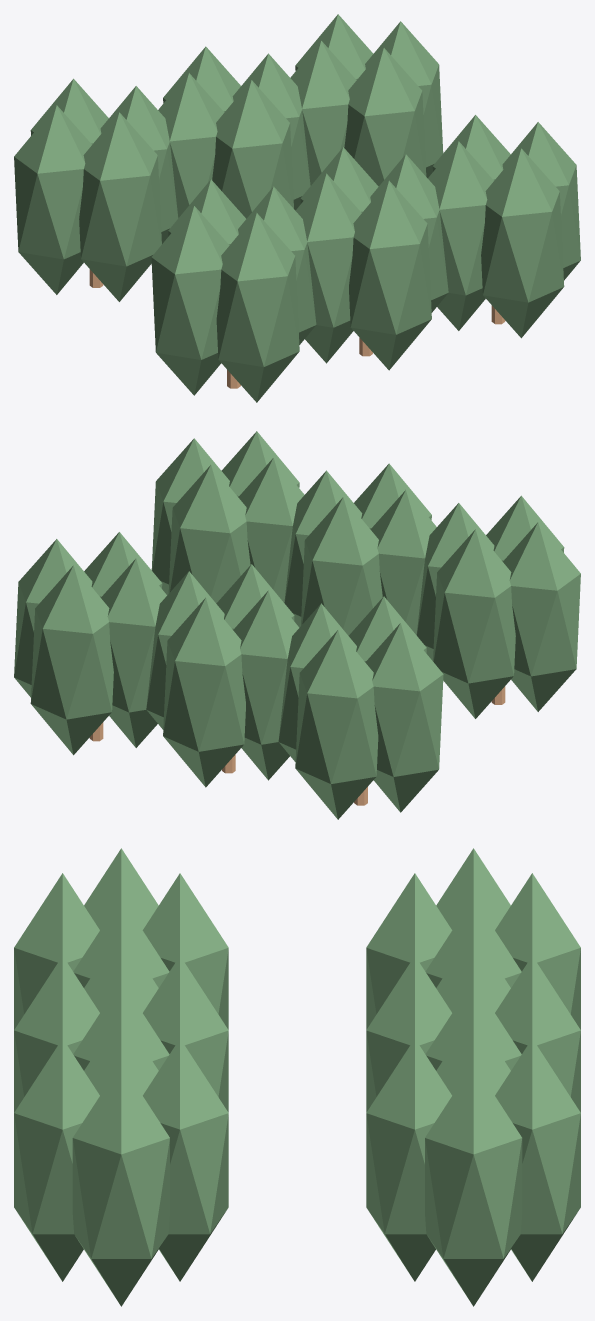
The picture shows the model from 3 angles, top to bottom: view 1: azimuth 30°, elevation 25°; view 2: azimuth 150°, elevation 25°; view 3: azimuth 270°, elevation 25°; orthographic projection. The views are drawn at different scales.
Parts seen in each view (by area): view 1: Leaf.003, Leaf.011, Leaf.019, Leaf.007, Leaf.006, Leaf.002, Leaf.015, Leaf.023, Leaf.018, Leaf.010, Leaf.022, Leaf.014 (+12 smaller); view 2: Leaf.005, Leaf.013, Leaf.021, Leaf.001, Leaf.002, Leaf.006, Leaf.009, Leaf.017, Leaf.022, Leaf.014, Leaf.018, Leaf.010 (+12 smaller); view 3: Leaf.016, Leaf.020, Leaf.017, Leaf.023, Leaf.019, Leaf.021, Leaf.001, Leaf.007, Leaf.009, Leaf.015, Leaf.003, Leaf.005 (+12 smaller).
Part boxes in pixels (left/top/right/bottom): Leaf.003: left=216, top=213, right=299, bottom=402; Leaf.011: left=349, top=180, right=431, bottom=370; Leaf.019: left=481, top=148, right=564, bottom=338; Leaf.007: left=79, top=112, right=161, bottom=301; Leaf.006: left=14, top=105, right=91, bottom=294; Leaf.002: left=151, top=206, right=229, bottom=395; Leaf.015: left=212, top=80, right=293, bottom=218; Leaf.023: left=344, top=48, right=426, bottom=186; Leaf.018: left=428, top=141, right=493, bottom=330; Leaf.010: left=295, top=173, right=361, bottom=363; Leaf.022: left=290, top=40, right=356, bottom=185; Leaf.014: left=158, top=73, right=224, bottom=217; Leaf.005: left=295, top=630, right=378, bottom=819; Leaf.013: left=163, top=597, right=245, bottom=787; Leaf.021: left=30, top=565, right=113, bottom=755; Leaf.001: left=433, top=529, right=515, bottom=718; Leaf.002: left=503, top=522, right=580, bottom=711; Leaf.006: left=365, top=623, right=443, bottom=812; Leaf.009: left=301, top=497, right=382, bottom=635; Leaf.017: left=168, top=465, right=250, bottom=603; Leaf.022: left=101, top=558, right=166, bottom=747; Leaf.014: left=233, top=590, right=299, bottom=780; Leaf.018: left=238, top=457, right=304, bottom=602; Leaf.010: left=370, top=490, right=436, bottom=634; Leaf.016: left=72, top=1063, right=169, bottom=1306; Leaf.020: left=425, top=1063, right=522, bottom=1306; Leaf.017: left=143, top=1038, right=228, bottom=1281; Leaf.023: left=366, top=1038, right=451, bottom=1281; Leaf.019: left=14, top=1038, right=99, bottom=1281; Leaf.021: left=495, top=1038, right=580, bottom=1281; Leaf.001: left=142, top=873, right=228, bottom=1029; Leaf.007: left=366, top=873, right=452, bottom=1029; Leaf.009: left=143, top=956, right=228, bottom=1112; Leaf.015: left=366, top=956, right=451, bottom=1112; Leaf.003: left=14, top=873, right=99, bottom=1029; Leaf.005: left=495, top=873, right=580, bottom=1029.
Size of the model in its own units: 63.63 by 27.5 by 57.95.
